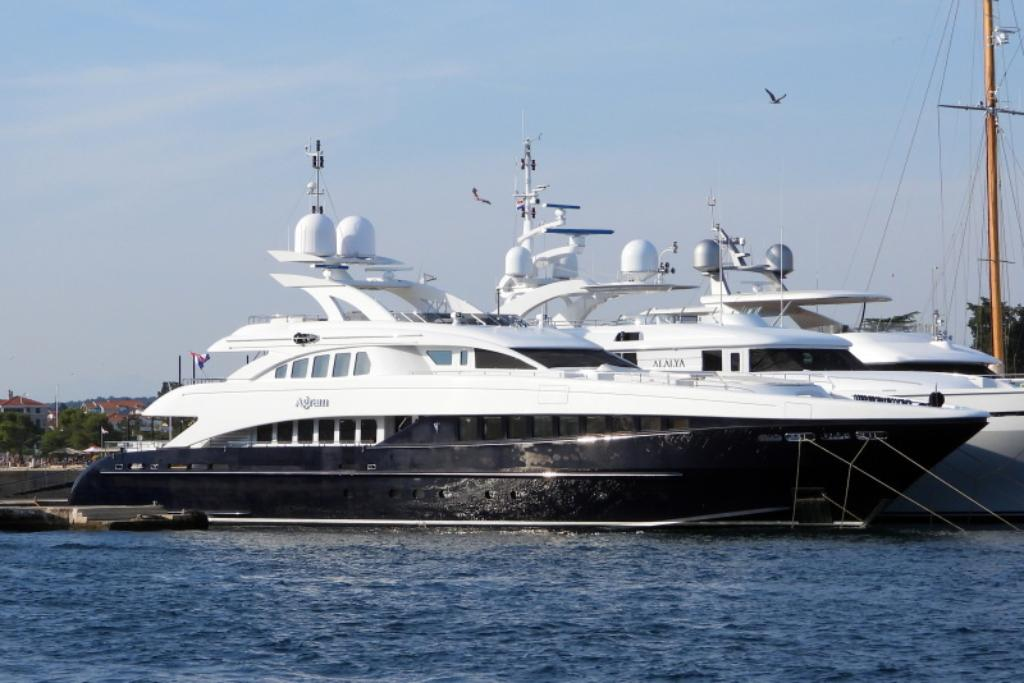PassengerShip: (66, 205, 990, 532), (478, 179, 1024, 534)
